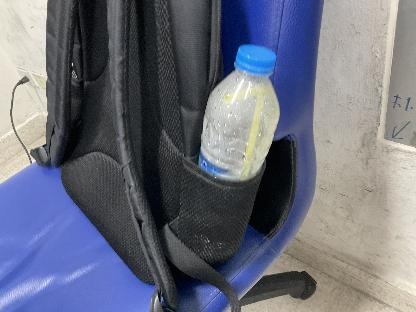Plastic Bottle: (197, 40, 280, 190)
